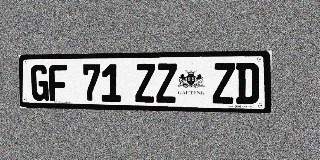1: (101, 64, 121, 102)
7: (82, 64, 101, 102)
D: (236, 63, 259, 104)
F: (49, 64, 68, 101)
G: (31, 65, 49, 101)
Z: (213, 63, 235, 104), (156, 63, 177, 103), (135, 64, 155, 103)
